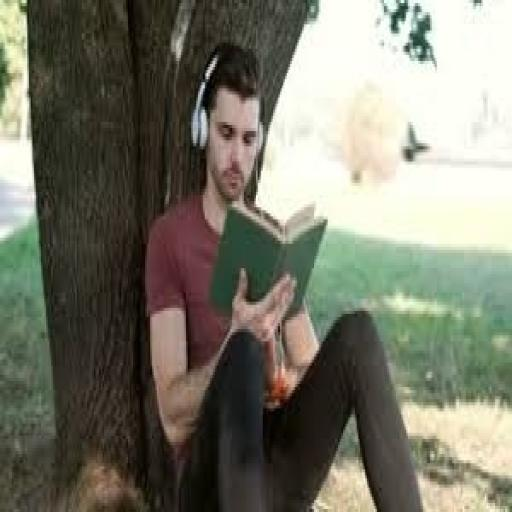listening_to_music: (143, 40, 427, 509)
